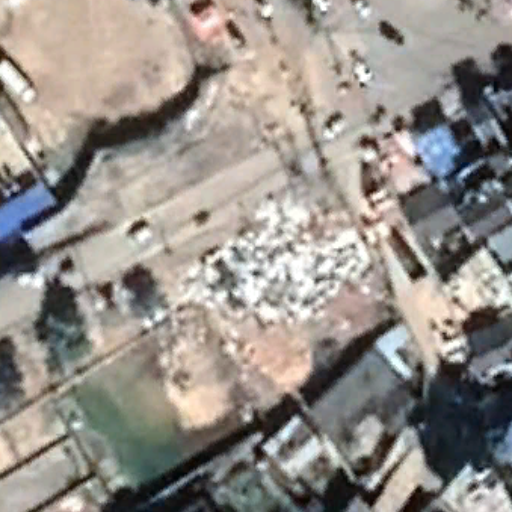msw: (176, 194, 373, 323)
